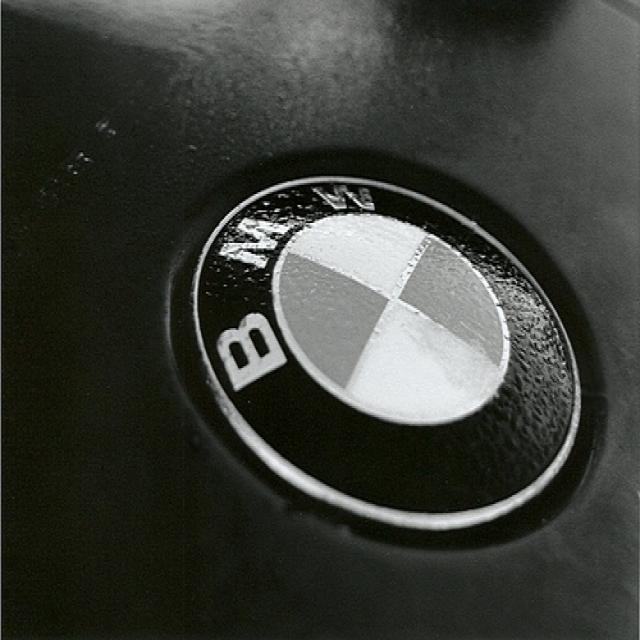bmw: (189, 171, 586, 536)
